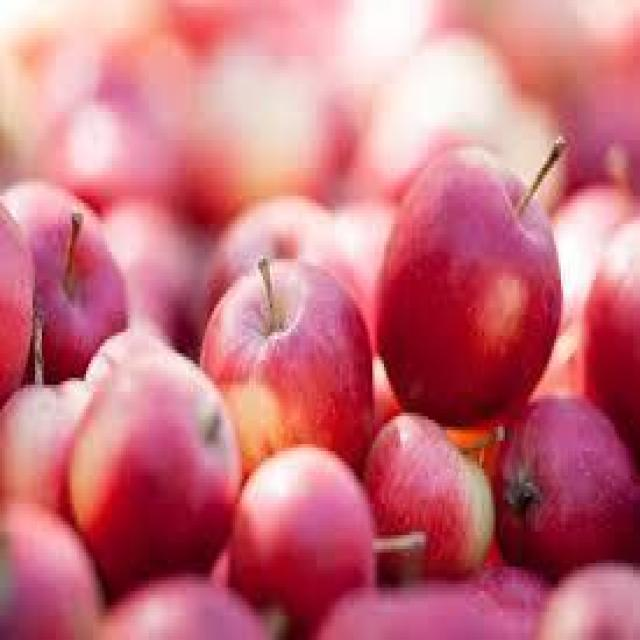maca: (0, 0, 638, 637), (372, 136, 564, 427)
